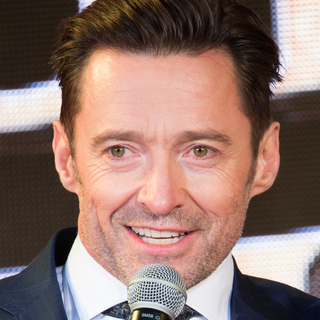eye: (173, 142, 225, 164), (98, 141, 146, 164)
